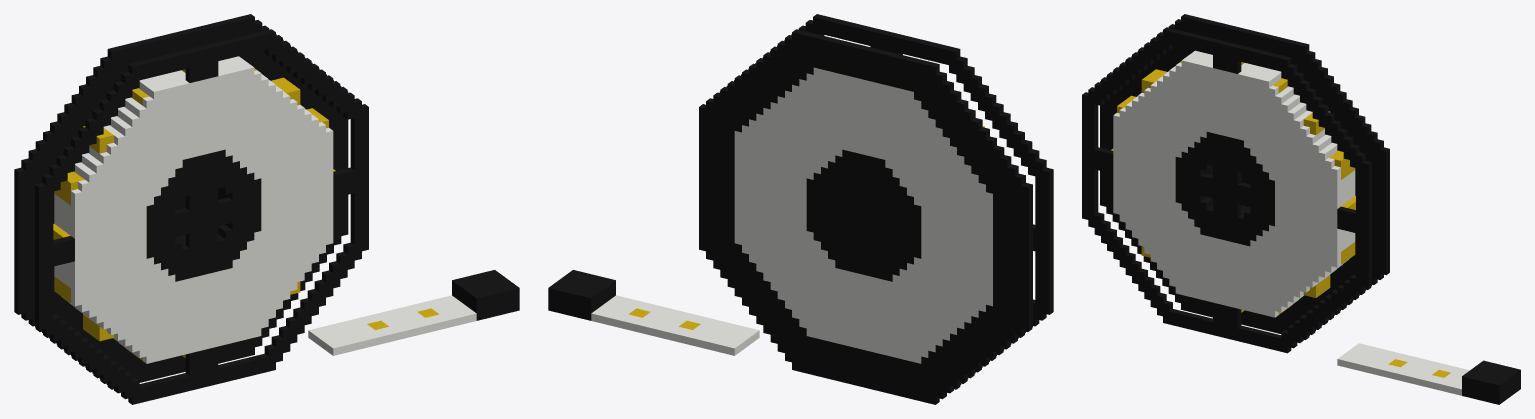
File: lightstrip.glb
3 views of the same model, side by side, from view 1: azimuth 30°, elevation 25°; view 2: azimuth 150°, elevation 25°; view 3: azimuth 330°, elevation 25° (orthographic). The views are drawn at different scales.
Visible parts, largest first — view 1: lightstrip:compound; view 2: lightstrip:compound; view 3: lightstrip:compound.
Part boxes in pixels (x1,y1,x2,y2): lightstrip:compound: (14,14,519,404); lightstrip:compound: (548,14,1053,404); lightstrip:compound: (1082,14,1520,404).
Bounding box in the file's own units: 0.134 × 0.09 × 0.012.
